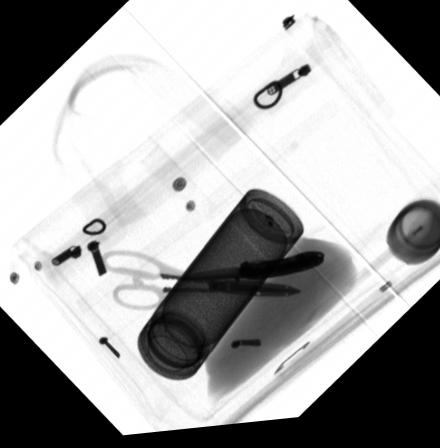Knife: (177, 256, 324, 284)
Scissors: (100, 251, 302, 313)
